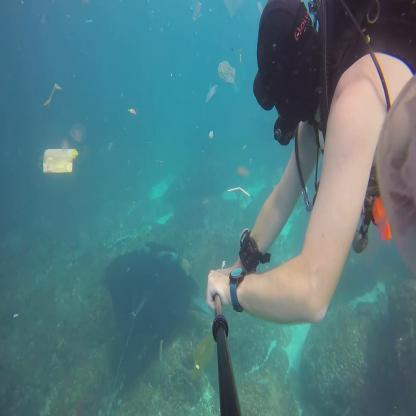Rác: (34, 132, 78, 180), (216, 51, 239, 91), (41, 81, 65, 112), (225, 180, 257, 202), (218, 0, 247, 17), (200, 80, 220, 103), (191, 0, 205, 16)
